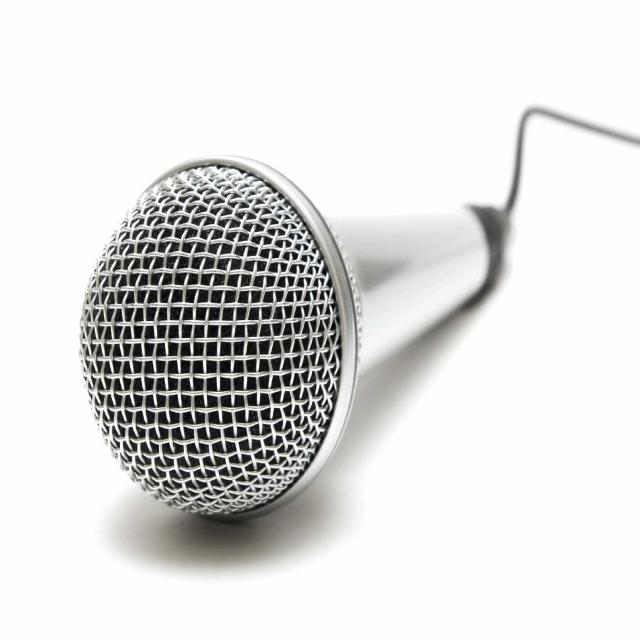microphone: (80, 156, 501, 514)
